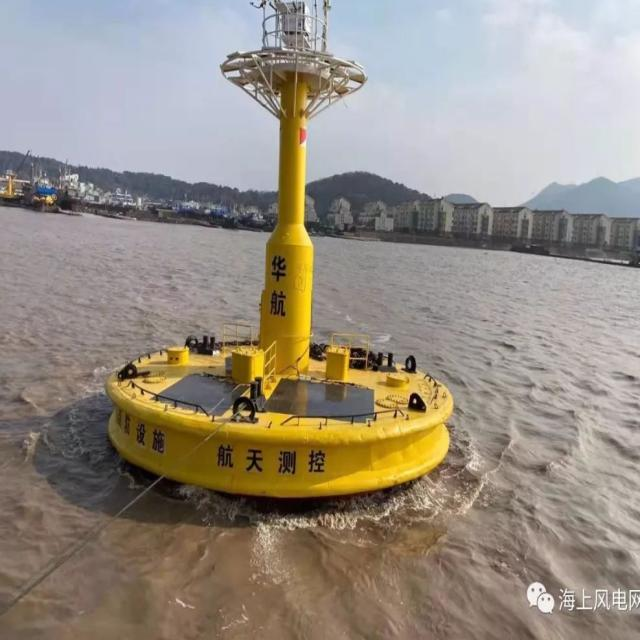buoy: (101, 0, 452, 502)
